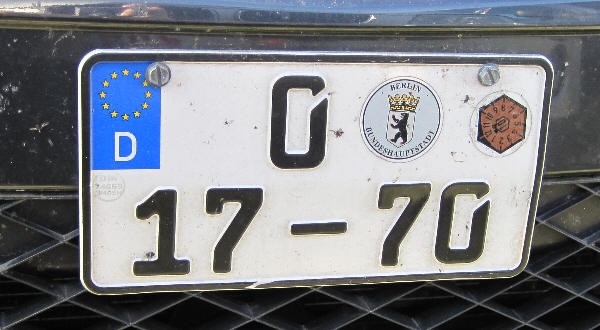license_plate: (78, 47, 556, 297)
